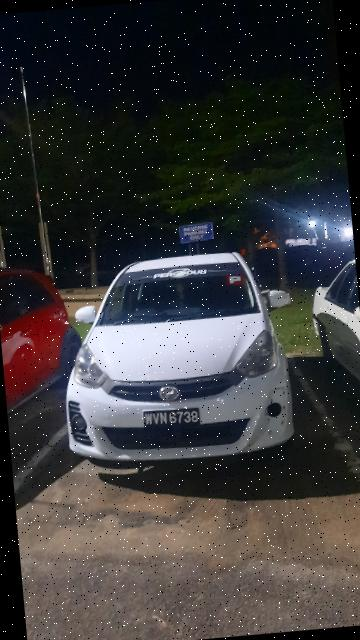License_Plate: (141, 405, 202, 434)
car: (52, 245, 309, 478), (1, 263, 89, 420)
